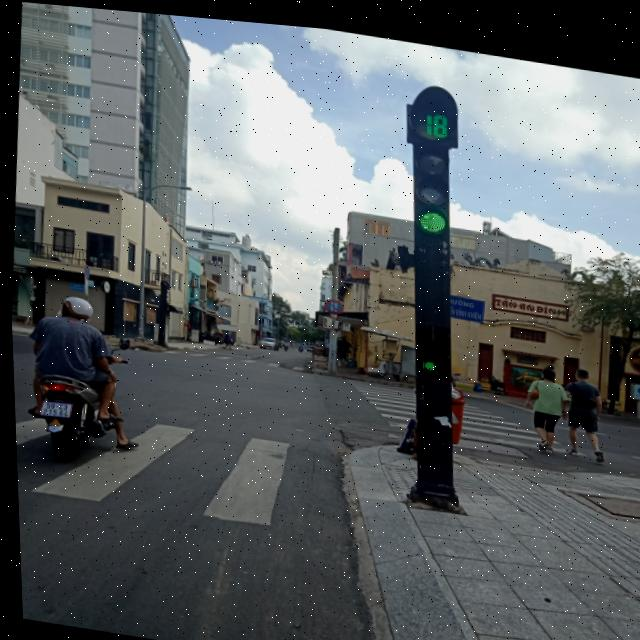Green: (403, 132, 465, 234), (405, 313, 451, 374)
